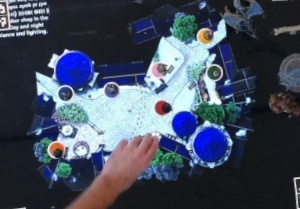blue: (53, 81, 76, 102)
green: (204, 58, 226, 81)
orange: (44, 139, 67, 160)
pink: (148, 59, 172, 79)
red: (150, 97, 174, 118)
violet: (99, 79, 120, 101)
yellow: (191, 24, 215, 47)
